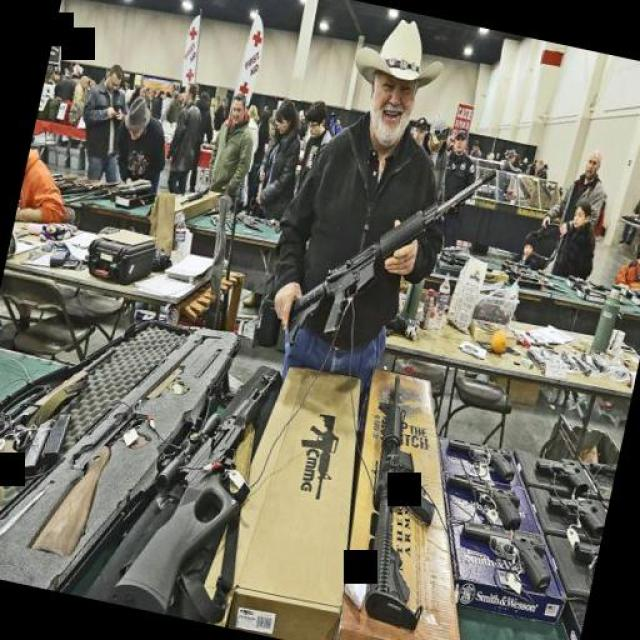gun: (446, 518, 559, 598), (436, 468, 529, 534), (438, 425, 524, 483), (539, 488, 606, 538), (529, 450, 595, 498)
